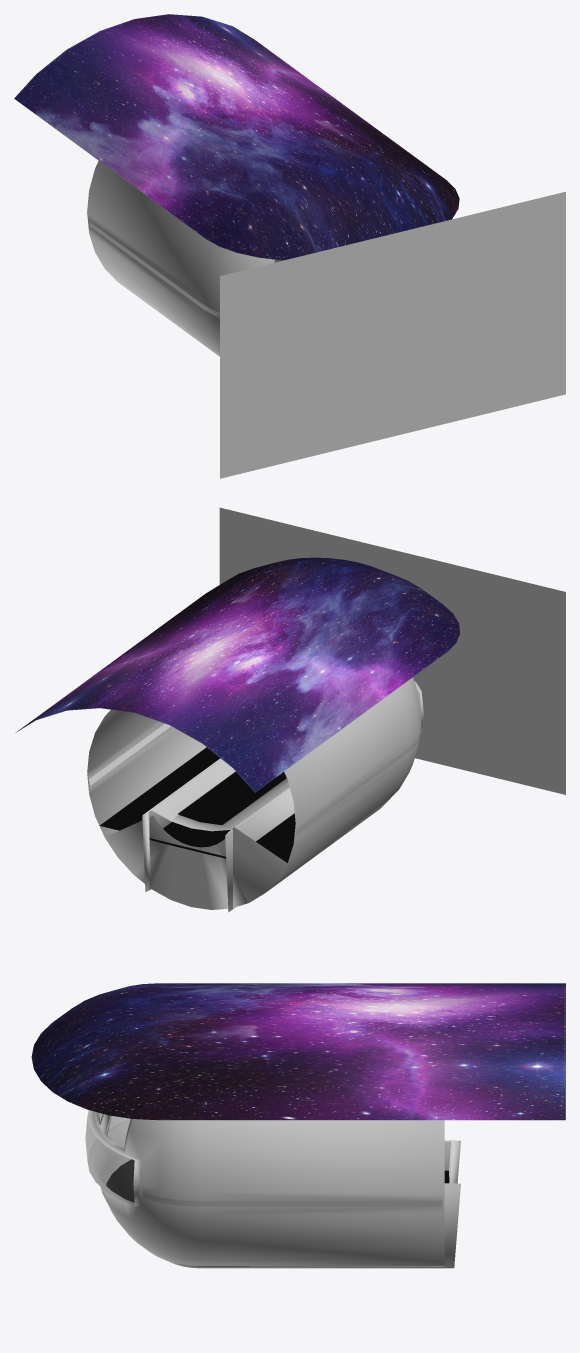
File: control nsq 2.fbx
3 renders of one model, top to bottom at view 1: azimuth 30°, elevation 25°; view 2: azimuth 150°, elevation 25°; view 3: azimuth 270°, elevation 25°, orthographic. The views are drawn at different scales.
Parts seen in each view (by area): view 1: Sci-Fi Space Station; view 2: Sci-Fi Space Station; view 3: Sci-Fi Space Station.
Boxes of the visible parts, x1=… form: Sci-Fi Space Station: x1=14, y1=14, x2=565, y2=478; Sci-Fi Space Station: x1=16, y1=507, x2=565, y2=912; Sci-Fi Space Station: x1=31, y1=983, x2=565, y2=1268.
Bounding box in the file's own units: 11250 × 7313 × 14538.
